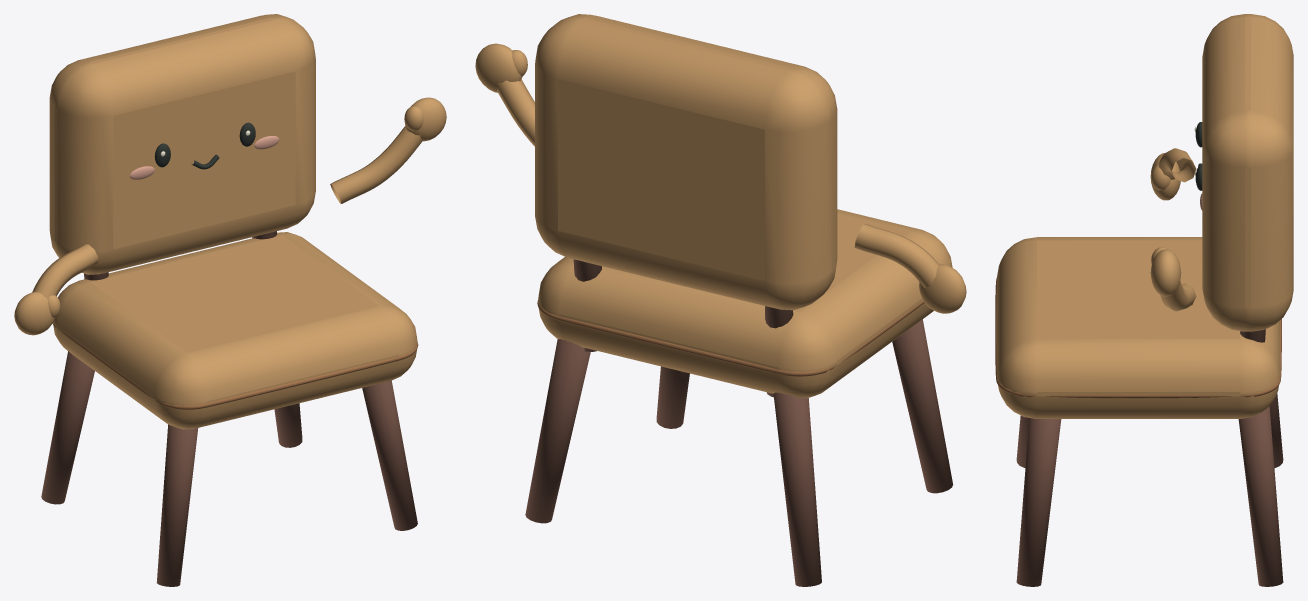
Rendered from chair.glb.
3 views of the same model, side by side, from view 1: azimuth 30°, elevation 25°; view 2: azimuth 150°, elevation 25°; view 3: azimuth 270°, elevation 25° (orthographic). The views are drawn at different scales.
Parts seen in each view (by area): view 1: Clean.Back.003, Clean.Seat.003, Ножка.008, Ножка.010, Ножка.009, Мягкая рука.007, Мягкая рука.006, Шов сиденья, Варежка.006, Варежка.007, Ножка.011; view 2: Clean.Back.003, Clean.Seat.003, Ножка.009, Ножка.011, Ножка.008, Мягкая рука.006, Шов сиденья, Ножка.010, Варежка.006, Варежка.007, Мягкая рука.007; view 3: Clean.Seat.003, Clean.Back.003, Ножка.011, Ножка.010, Шов сиденья, Варежка.007, Мягкая рука.006, Ножка.009, Мягкая рука.007, Варежка.006, Ножка.008.
Part boxes in pixels (left/top/right/bottom): Clean.Back.003: left=49, top=14, right=315, bottom=274; Clean.Seat.003: left=53, top=232, right=417, bottom=429; Ножка.008: left=156, top=424, right=198, bottom=586; Ножка.010: left=362, top=380, right=417, bottom=530; Ножка.009: left=41, top=351, right=94, bottom=504; Мягкая рука.007: left=330, top=126, right=423, bottom=203; Мягкая рука.006: left=32, top=244, right=98, bottom=298; Шов сиденья: left=52, top=323, right=418, bottom=409; Варежка.006: left=14, top=291, right=54, bottom=335; Варежка.007: left=405, top=97, right=446, bottom=141; Ножка.011: left=274, top=403, right=302, bottom=447; Clean.Back.003: left=535, top=14, right=837, bottom=310; Clean.Seat.003: left=538, top=209, right=952, bottom=398; Ножка.009: left=773, top=392, right=821, bottom=586; Ножка.011: left=525, top=339, right=590, bottom=523; Ножка.008: left=892, top=319, right=953, bottom=493; Мягкая рука.006: left=854, top=224, right=938, bottom=287; Шов сиденья: left=537, top=301, right=924, bottom=376; Ножка.010: left=656, top=366, right=689, bottom=428; Варежка.006: left=919, top=264, right=966, bottom=313; Варежка.007: left=475, top=43, right=522, bottom=92; Мягкая рука.007: left=496, top=79, right=534, bottom=146; Clean.Seat.003: left=997, top=237, right=1279, bottom=418; Clean.Back.003: left=1202, top=14, right=1293, bottom=331; Ножка.011: left=1238, top=406, right=1283, bottom=586; Ножка.010: left=1016, top=418, right=1061, bottom=586; Шов сиденья: left=995, top=278, right=1281, bottom=398; Варежка.007: left=1150, top=249, right=1181, bottom=296; Мягкая рука.006: left=1159, top=148, right=1196, bottom=182; Ножка.009: left=1269, top=393, right=1283, bottom=467; Мягкая рука.007: left=1160, top=281, right=1196, bottom=311; Варежка.006: left=1150, top=153, right=1180, bottom=200; Ножка.008: left=1016, top=415, right=1029, bottom=467.
Size of the model in its own units: 2.28 by 2.23 by 1.31.
